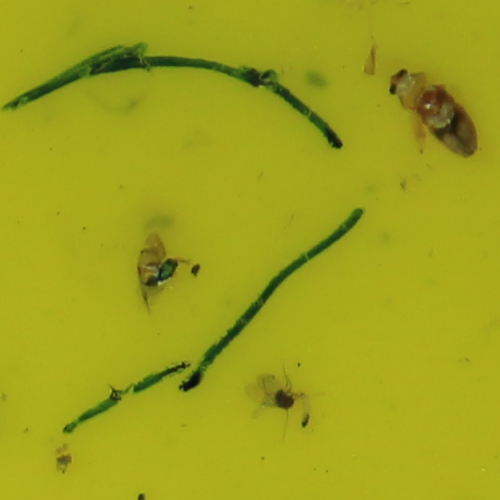wasp: (140, 256, 180, 288)
